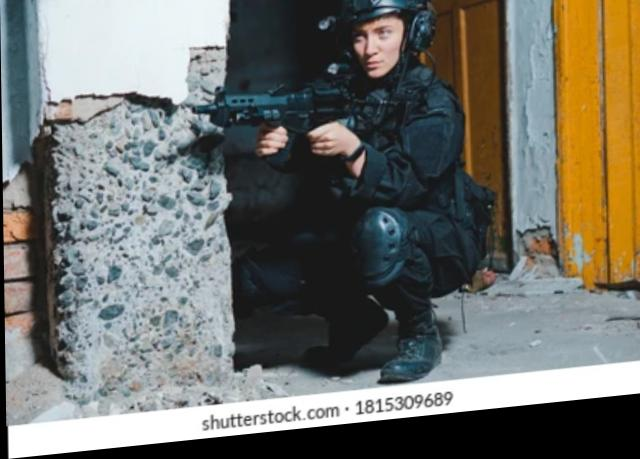other: (253, 5, 480, 393)
